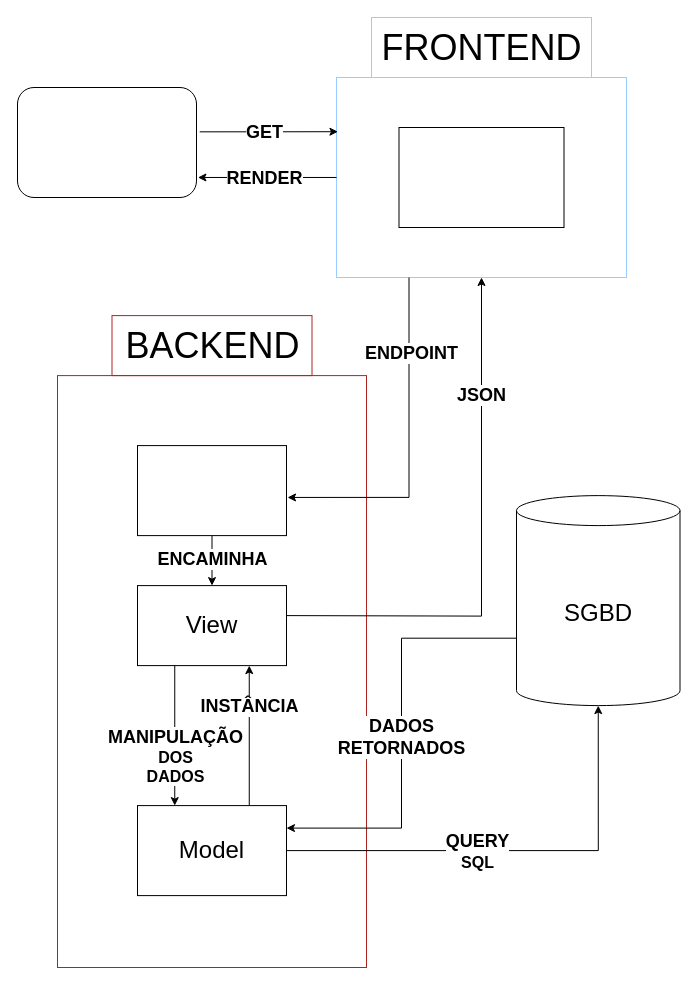
This 698x985 diagram has some shape labels left out. The shapes that lost their labels are listed below. From the top down, each one's box as (x1, y1, x2, y2) in pixels, then its label:
(16, 86, 196, 198): Navegador (cliente)
(398, 126, 564, 228): React App
(136, 445, 286, 536): URL Dispatcher
